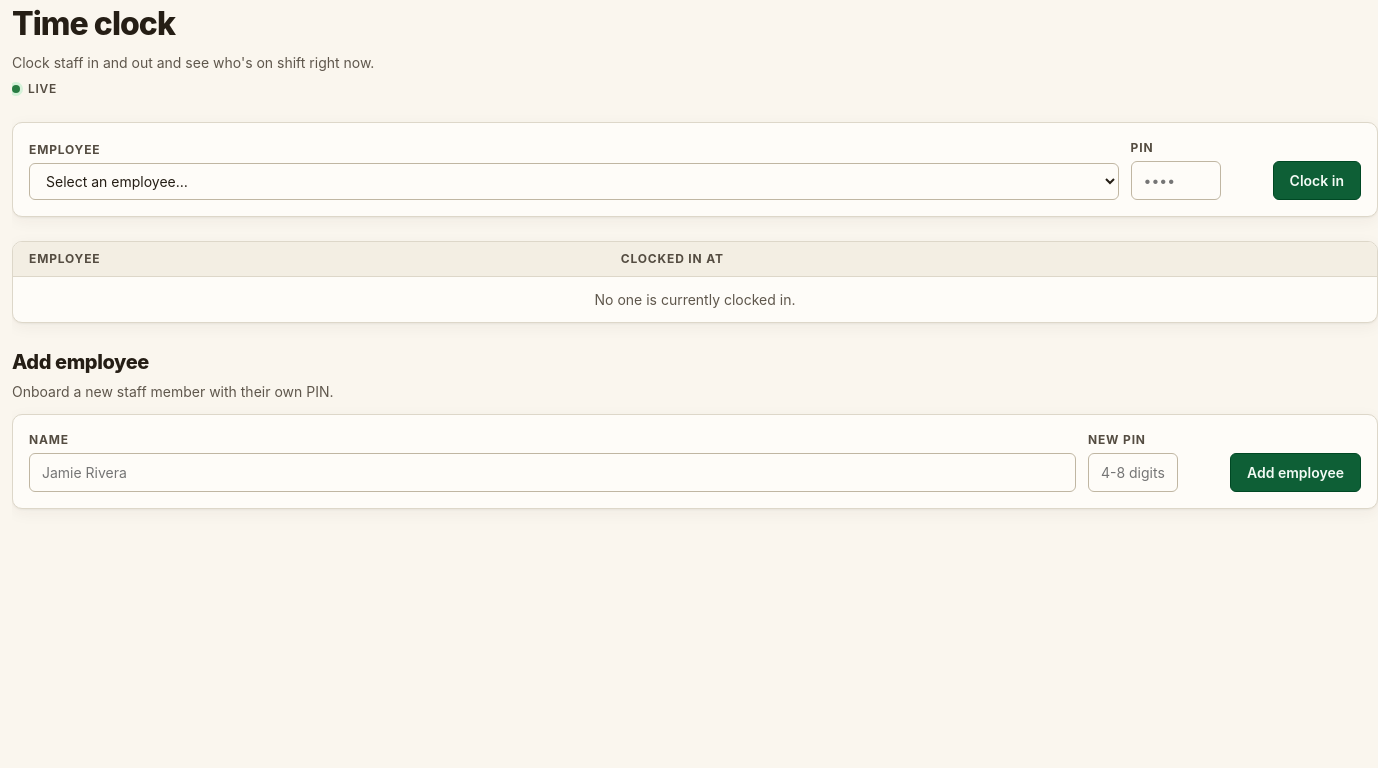
it: TimeclockPanel › requires an employee and a PIN before submitting
This screenshot has width=1378, height=768.
Click the button "Clock in" at x=1317, y=180, box [1273,161,1361,200]
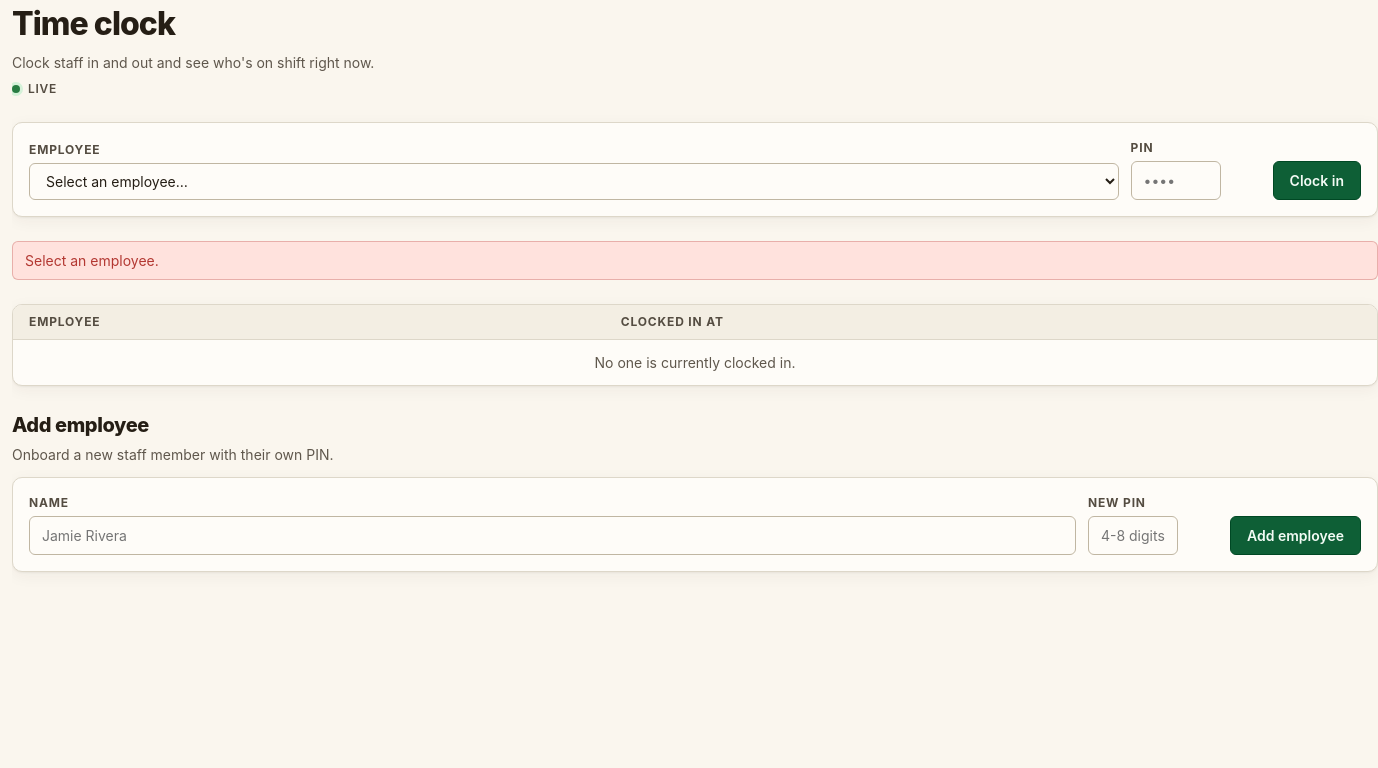
Expected: the message reads "Select an employee.", [25,252,159,269]
Select "Jamie Rivera" in the dropdown labelled "Employee" at x=574, y=182, box [29,163,1119,200]
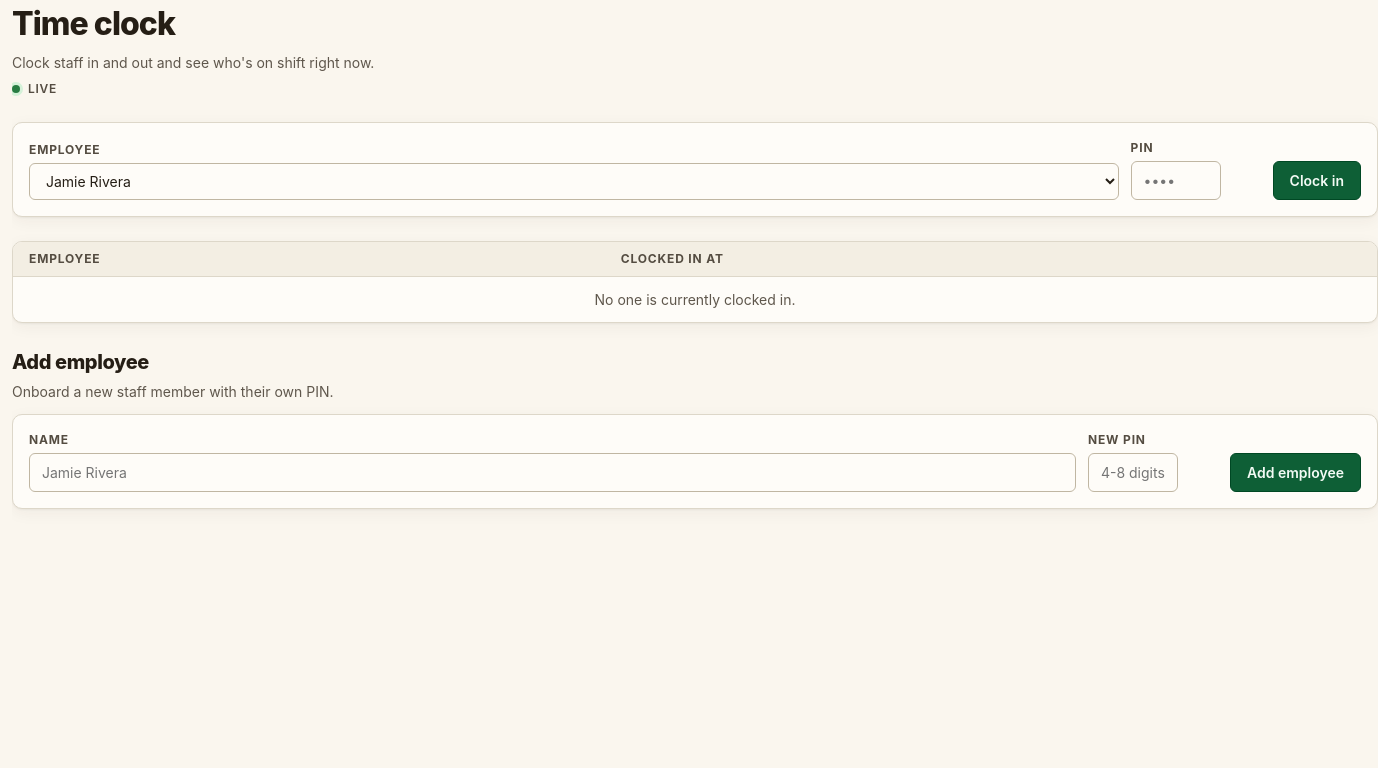
Click the button "Clock in" at x=1317, y=180, box [1273,161,1361,200]
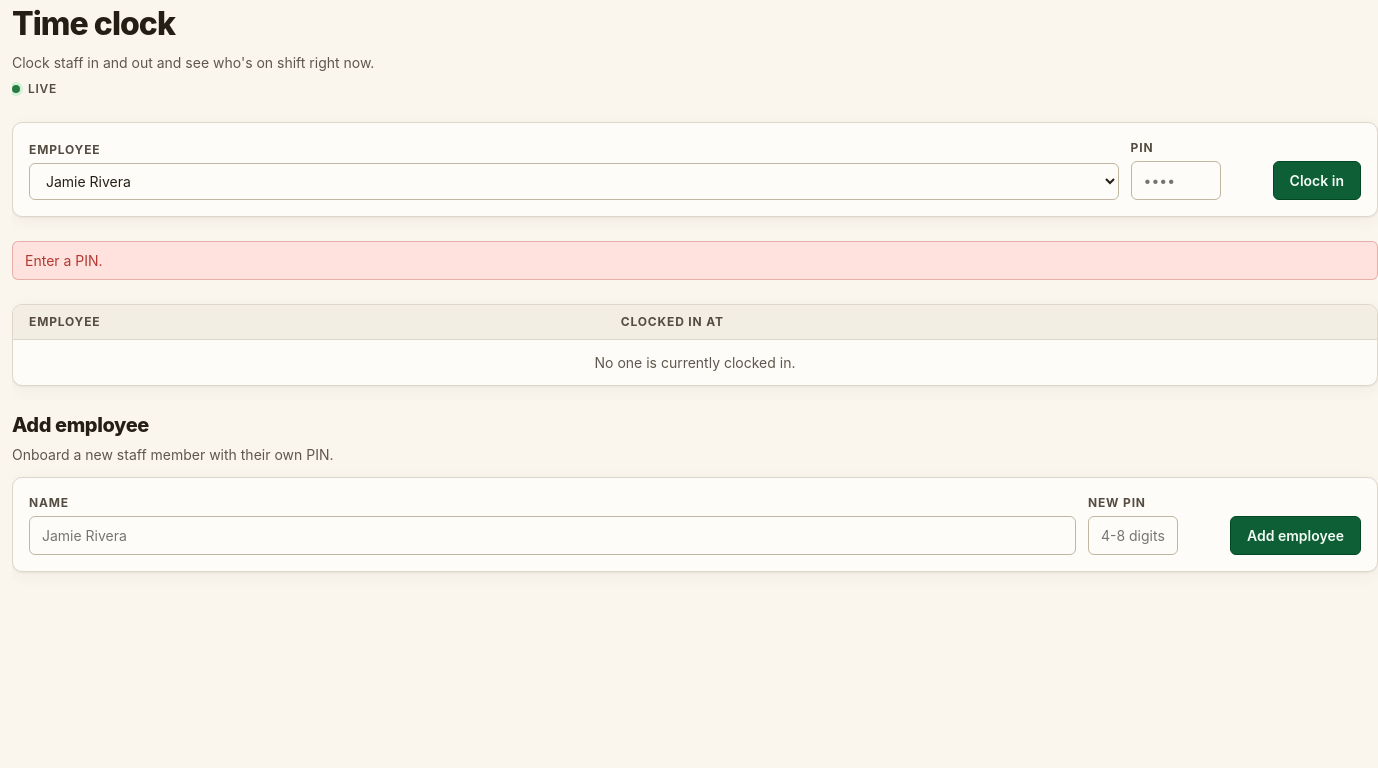
Expected: the message reads "Enter a PIN.", [25,252,103,269]
